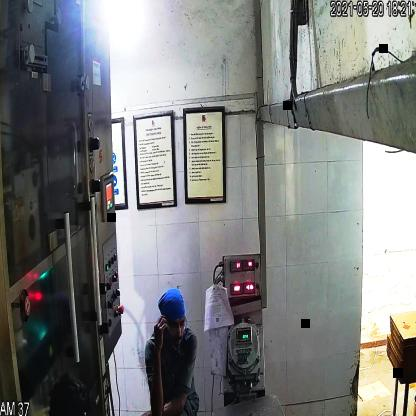goggles: (164, 316, 190, 338)
